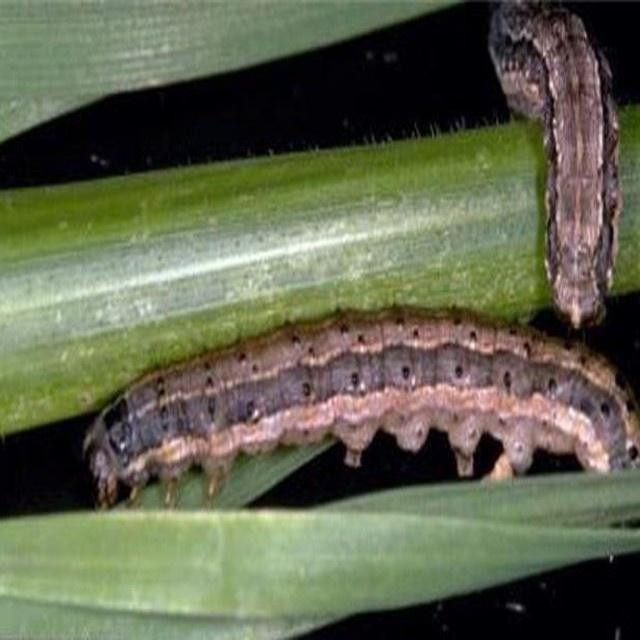gusano_cogollero: (76, 306, 640, 508)
